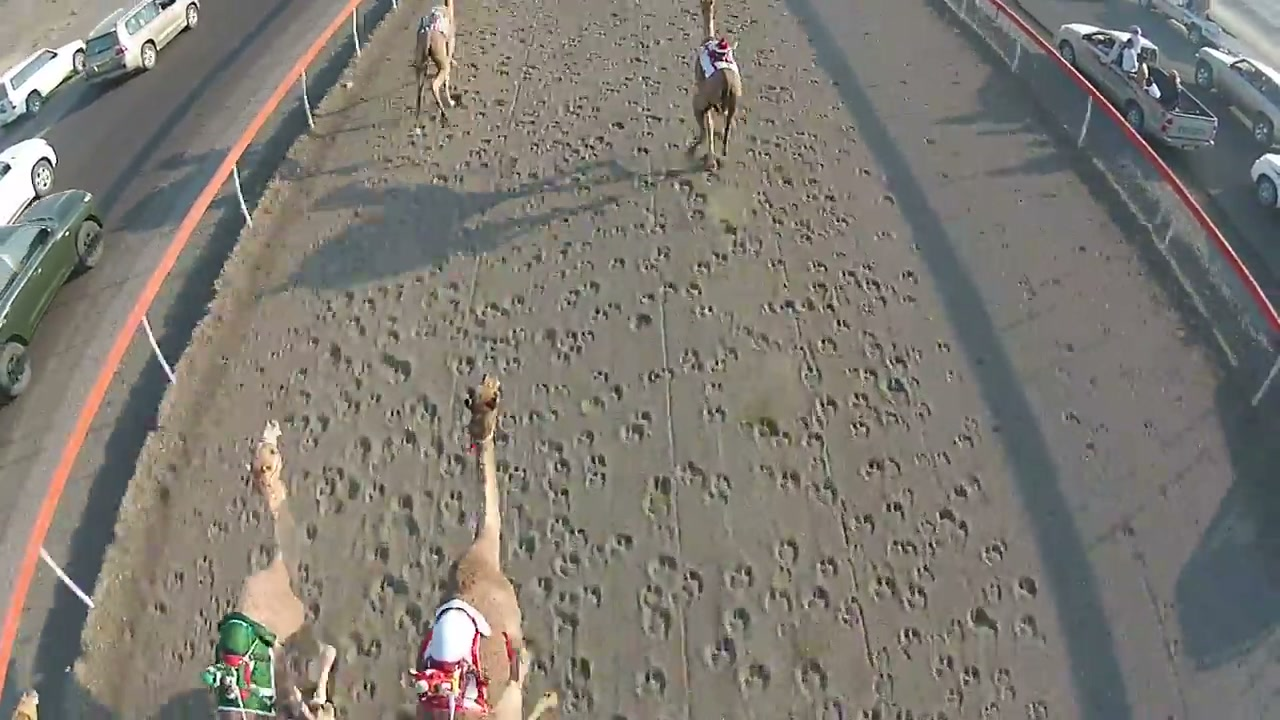animal_foot_print: (77, 0, 1063, 719)
